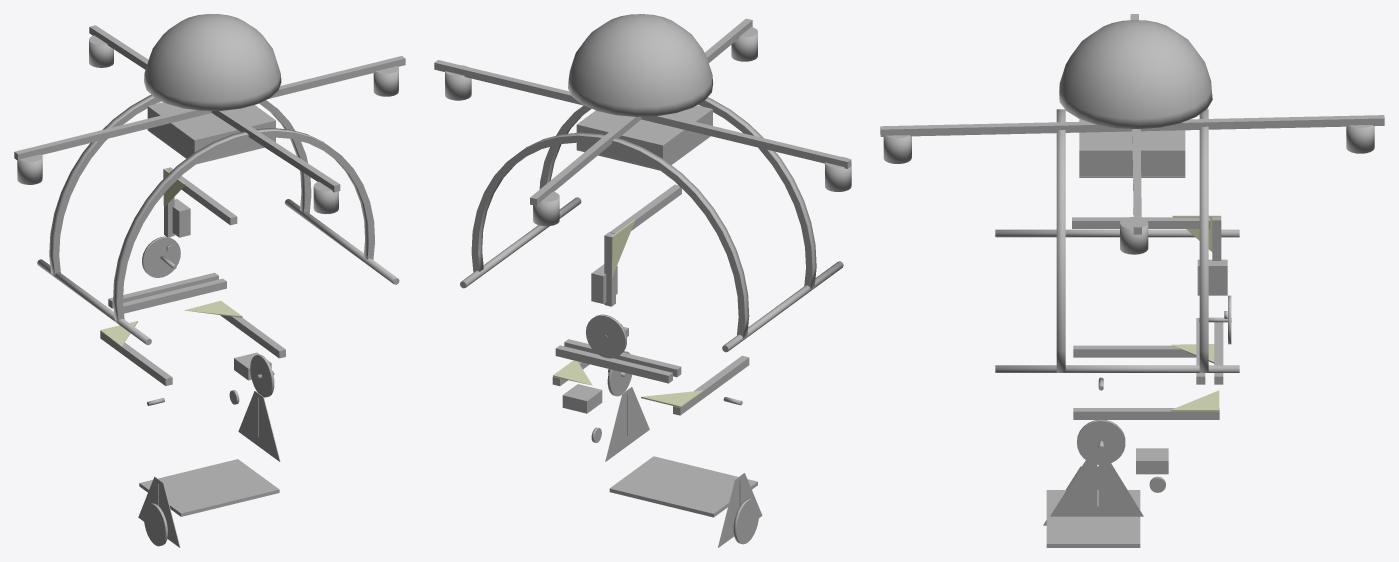
Rendered from QuadXL-noCamera4.DAE.
3 renders of one model, left to right at view 1: azimuth 30°, elevation 25°; view 2: azimuth 150°, elevation 25°; view 3: azimuth 270°, elevation 25°, orthographic. The views are drawn at different scales.
Parts seen in each view (by area): view 1: Quadro_Bulle, Quadro_TrainAvant, Box007, Quadro_BlocBatterie, Quadro_BrasLateral, Quadro_TrainArriere, Quadro_brasLongitudinalAvant, Box008, Box003, Cylinder002, Quadro_TrainGche, Quadro_TrainDte (+14 smaller); view 2: Quadro_Bulle, Quadro_TrainArriere, Box007, Quadro_BlocBatterie, Quadro_BrasLateral, Quadro_TrainAvant, Box008, Quadro_brasLongitudinalArriere, Box004, Cylinder002, Quadro_TrainDte, Quadro_TrainGche (+16 smaller); view 3: Quadro_Bulle, Quadro_BlocBatterie, Box007, Box008, Quadro_brasLongitudinalAvant, Quadro_TrainAvant, Quadro_TrainArriere, Quadro_brasLongitudinalArriere, Quadro_TrainGche, Cylinder005, Box005, Quadro_TrainDte (+9 smaller).
Part boxes in pixels (box(x1,y1,x2,y2)): Quadro_Bulle: box(144, 14, 281, 110); Quadro_TrainAvant: box(113, 128, 374, 323); Box007: box(139, 459, 279, 516); Quadro_BlocBatterie: box(147, 102, 275, 162); Quadro_BrasLateral: box(14, 56, 405, 160); Quadro_TrainArriere: box(49, 94, 311, 277); Quadro_brasLongitudinalAvant: box(211, 110, 340, 192); Box008: box(238, 391, 280, 461); Box003: box(123, 278, 226, 313); Cylinder002: box(142, 236, 180, 277); Quadro_TrainGche: box(284, 199, 399, 284); Quadro_TrainDte: box(37, 259, 151, 345); Quadro_Bulle: box(568, 14, 713, 116); Quadro_TrainArriere: box(471, 132, 749, 339); Box007: box(609, 456, 757, 517); Quadro_BlocBatterie: box(576, 105, 712, 168); Quadro_BrasLateral: box(434, 60, 851, 168); Quadro_TrainAvant: box(539, 97, 816, 290); Box008: box(605, 387, 649, 461); Quadro_brasLongitudinalArriere: box(530, 116, 641, 205); Box004: box(555, 345, 672, 383); Cylinder002: box(586, 314, 626, 358); Quadro_TrainDte: box(722, 261, 843, 352); Quadro_TrainGche: box(460, 197, 581, 288); Quadro_Bulle: box(1059, 20, 1212, 129); Quadro_BlocBatterie: box(1079, 119, 1185, 176); Box007: box(1046, 490, 1140, 547); Box008: box(1050, 460, 1143, 516); Quadro_brasLongitudinalAvant: box(880, 121, 1132, 136); Quadro_TrainAvant: box(1056, 109, 1065, 372); Quadro_TrainArriere: box(1199, 109, 1208, 372); Quadro_brasLongitudinalArriere: box(1140, 115, 1384, 131); Quadro_TrainGche: box(995, 365, 1239, 372); Cylinder005: box(1077, 420, 1125, 464); Box005: box(1073, 408, 1219, 419); Quadro_TrainDte: box(995, 229, 1239, 237).
Size of the model in its own units: 0.62 by 0.6197 by 0.7462.
